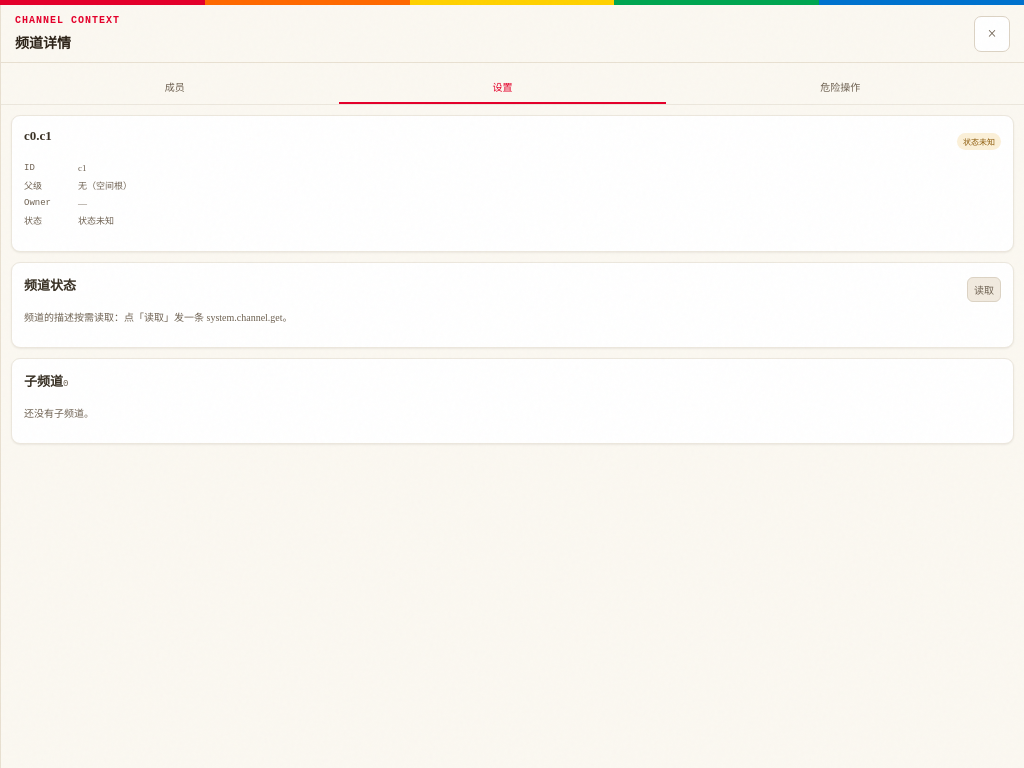
Governance UI owner contracts › shows a description that cannot be read as stored, with why
Click the button "读取" at (984, 290), box [967, 277, 1001, 302]
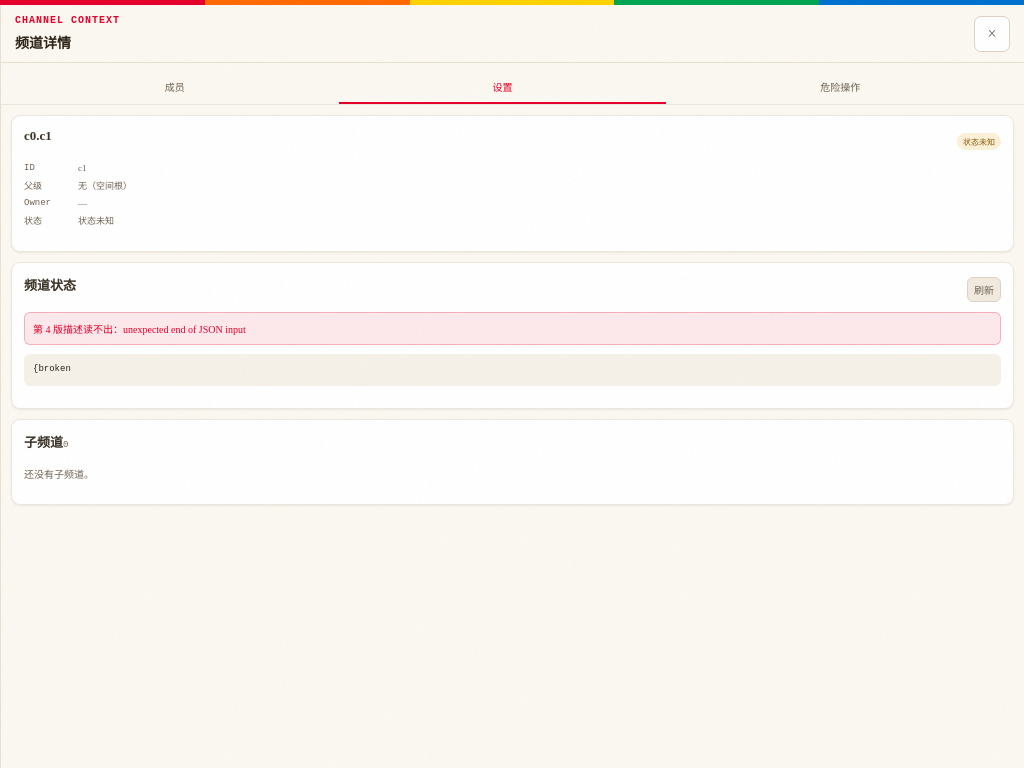
Now the message reads "第 4 版描述读不出：unexpected end of JSON input", box [24, 312, 1001, 345]
Now the text named "描述原文" reads "{broken", box [33, 364, 71, 374]
